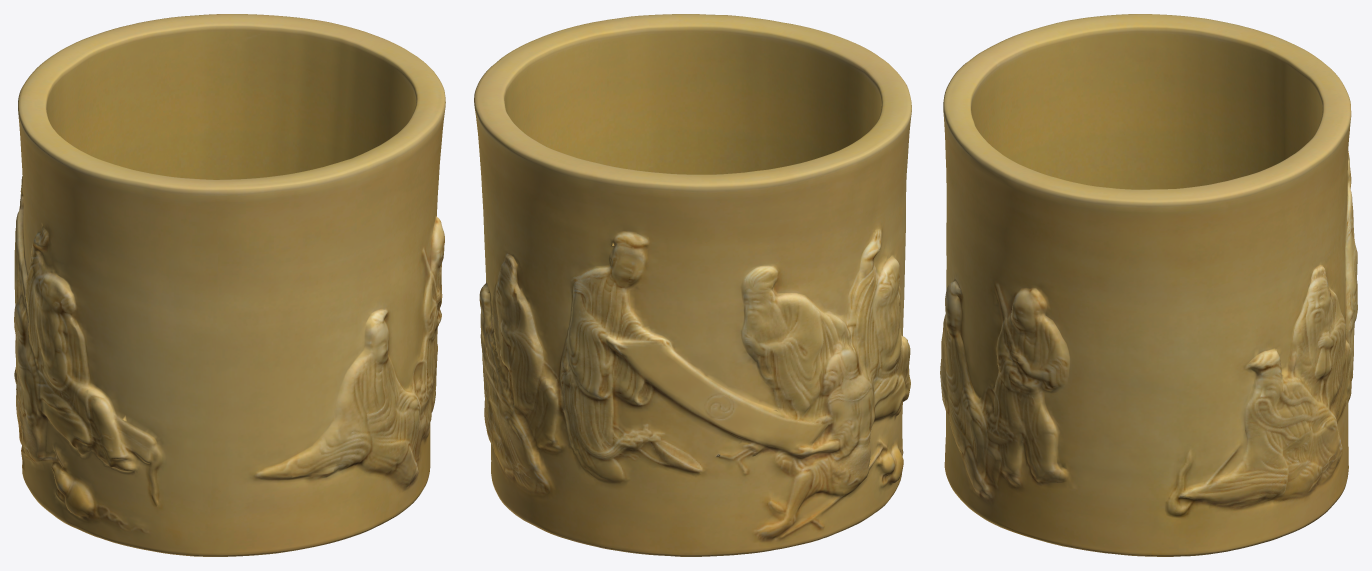
The picture shows the model from 3 angles, left to right: view 1: azimuth 30°, elevation 25°; view 2: azimuth 150°, elevation 25°; view 3: azimuth 270°, elevation 25°; orthographic projection.
Visible parts, largest first — view 1: SZB_ZL_13; view 2: SZB_ZL_13; view 3: SZB_ZL_13.
Boxes of the visible parts, x1=… form: SZB_ZL_13: x1=14, y1=14, x2=445, y2=556; SZB_ZL_13: x1=474, y1=14, x2=911, y2=556; SZB_ZL_13: x1=940, y1=14, x2=1357, y2=556.
Bounding box in the file's own units: 15.64 × 14.66 × 14.9.
1 material, 1 textured.
